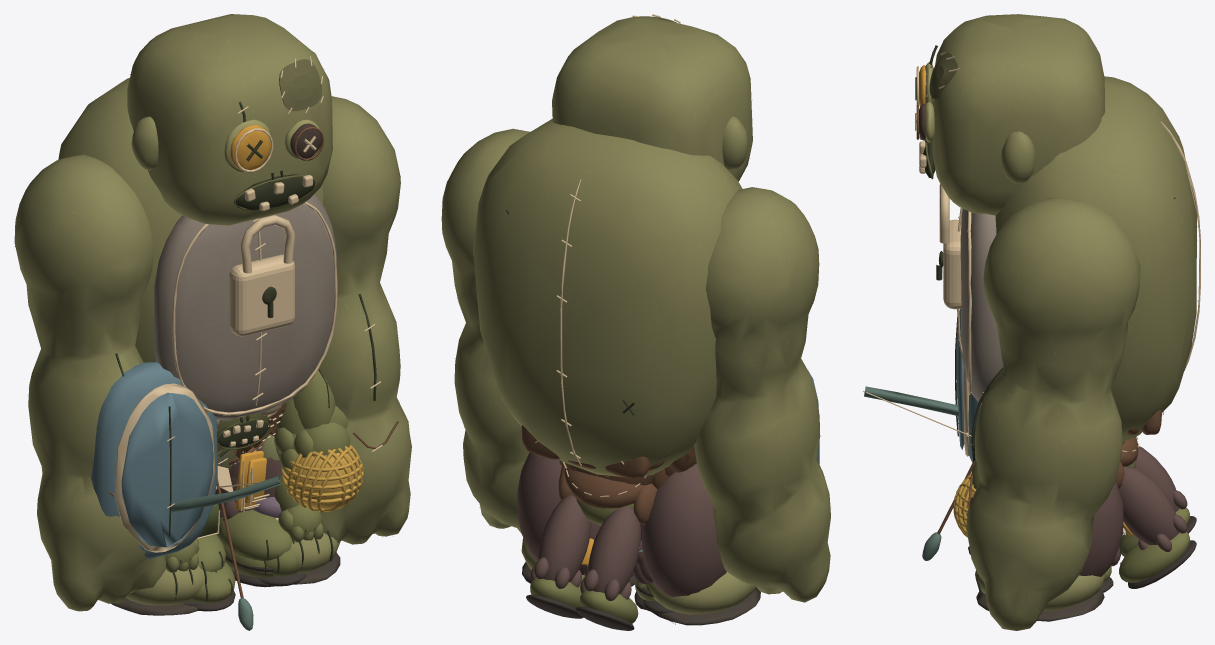
The model's file is zombie-roster.glb.
The picture shows the model from 3 angles, left to right: view 1: azimuth 30°, elevation 25°; view 2: azimuth 150°, elevation 25°; view 3: azimuth 270°, elevation 25°; orthographic projection. The views are drawn at different scales.
Parts seen in each view (by area): view 1: boss-warden / continuous stuffed ArmL, boss-warden / sculpted head, boss-warden / continuous stuffed ArmR, boss-warden / grave cloth belly, shielded / shield face, boss-warden / massive low trapezoid torso, shielded / felt shield, boss-warden / cloth lock, archer / Mesh / LegR, archer / Mesh / ArmR, shielded / shield padded rim, boss-warden / felt foot (+19 smaller); view 2: boss-warden / massive low trapezoid torso, boss-warden / continuous stuffed ArmL, boss-warden / sculpted head, boss-warden / continuous stuffed ArmR, boss-warden / cloth leg, crawler / Mesh / LegL, crawler / Mesh / LegR, crawler / Mesh / Body, boss-warden / cloth leg.001, boss-warden / felt foot, boss-warden / dark cloth sole, boss-warden / sewn ear (+4 smaller); view 3: boss-warden / continuous stuffed ArmR, boss-warden / massive low trapezoid torso, boss-warden / sculpted head, crawler / Mesh / LegR, boss-warden / grave cloth belly, boss-warden / cloth leg.001, crawler / Mesh / LegL, boss-warden / cloth lock, boss-warden / sewn ear.001, boss-warden / felt foot.001, archer / soft bow arc, boss-warden / dark cloth sole.001 (+6 smaller).
Boxes of the visible parts, x1,y1,x2,y2 form: boss-warden / continuous stuffed ArmL: (14,154,165,611); boss-warden / sculpted head: (127,14,332,225); boss-warden / continuous stuffed ArmR: (276,96,411,544); boss-warden / grave cloth belly: (154,194,337,420); shielded / shield face: (121,392,213,547); boss-warden / massive low trapezoid torso: (58,78,323,362); shielded / felt shield: (91,361,217,559); boss-warden / cloth lock: (229,254,294,336); archer / Mesh / LegR: (216,445,294,571); archer / Mesh / ArmR: (293,369,350,457); shielded / shield padded rim: (114,383,215,552); boss-warden / felt foot: (126,565,204,605); boss-warden / massive low trapezoid torso: (473,119,742,477); boss-warden / continuous stuffed ArmL: (694,187,830,602); boss-warden / sculpted head: (552,17,752,181); boss-warden / continuous stuffed ArmR: (441,128,529,533); boss-warden / cloth leg: (641,464,726,596); crawler / Mesh / LegL: (575,507,640,630); crawler / Mesh / LegR: (526,493,593,618); crawler / Mesh / Body: (558,464,657,525); boss-warden / cloth leg.001: (517,452,561,560); boss-warden / felt foot: (648,572,756,614); boss-warden / dark cloth sole: (650,587,760,625); boss-warden / sewn ear: (722,116,747,170); boss-warden / continuous stuffed ArmR: (966,197,1140,630); boss-warden / massive low trapezoid torso: (995,76,1196,441); boss-warden / sculpted head: (931,14,1105,215); crawler / Mesh / LegR: (1118,466,1196,588); boss-warden / grave cloth belly: (960,208,1003,404); boss-warden / cloth leg.001: (1079,481,1123,576); crawler / Mesh / LegL: (1119,446,1196,556); boss-warden / cloth lock: (943,219,961,309); boss-warden / sewn ear.001: (1001,131,1035,183); boss-warden / felt foot.001: (975,570,1105,611); archer / soft bow arc: (864,386,958,416); boss-warden / dark cloth sole.001: (976,590,1104,621).
Bounding box in the file's own units: 1.91 × 2.8 × 1.59.
